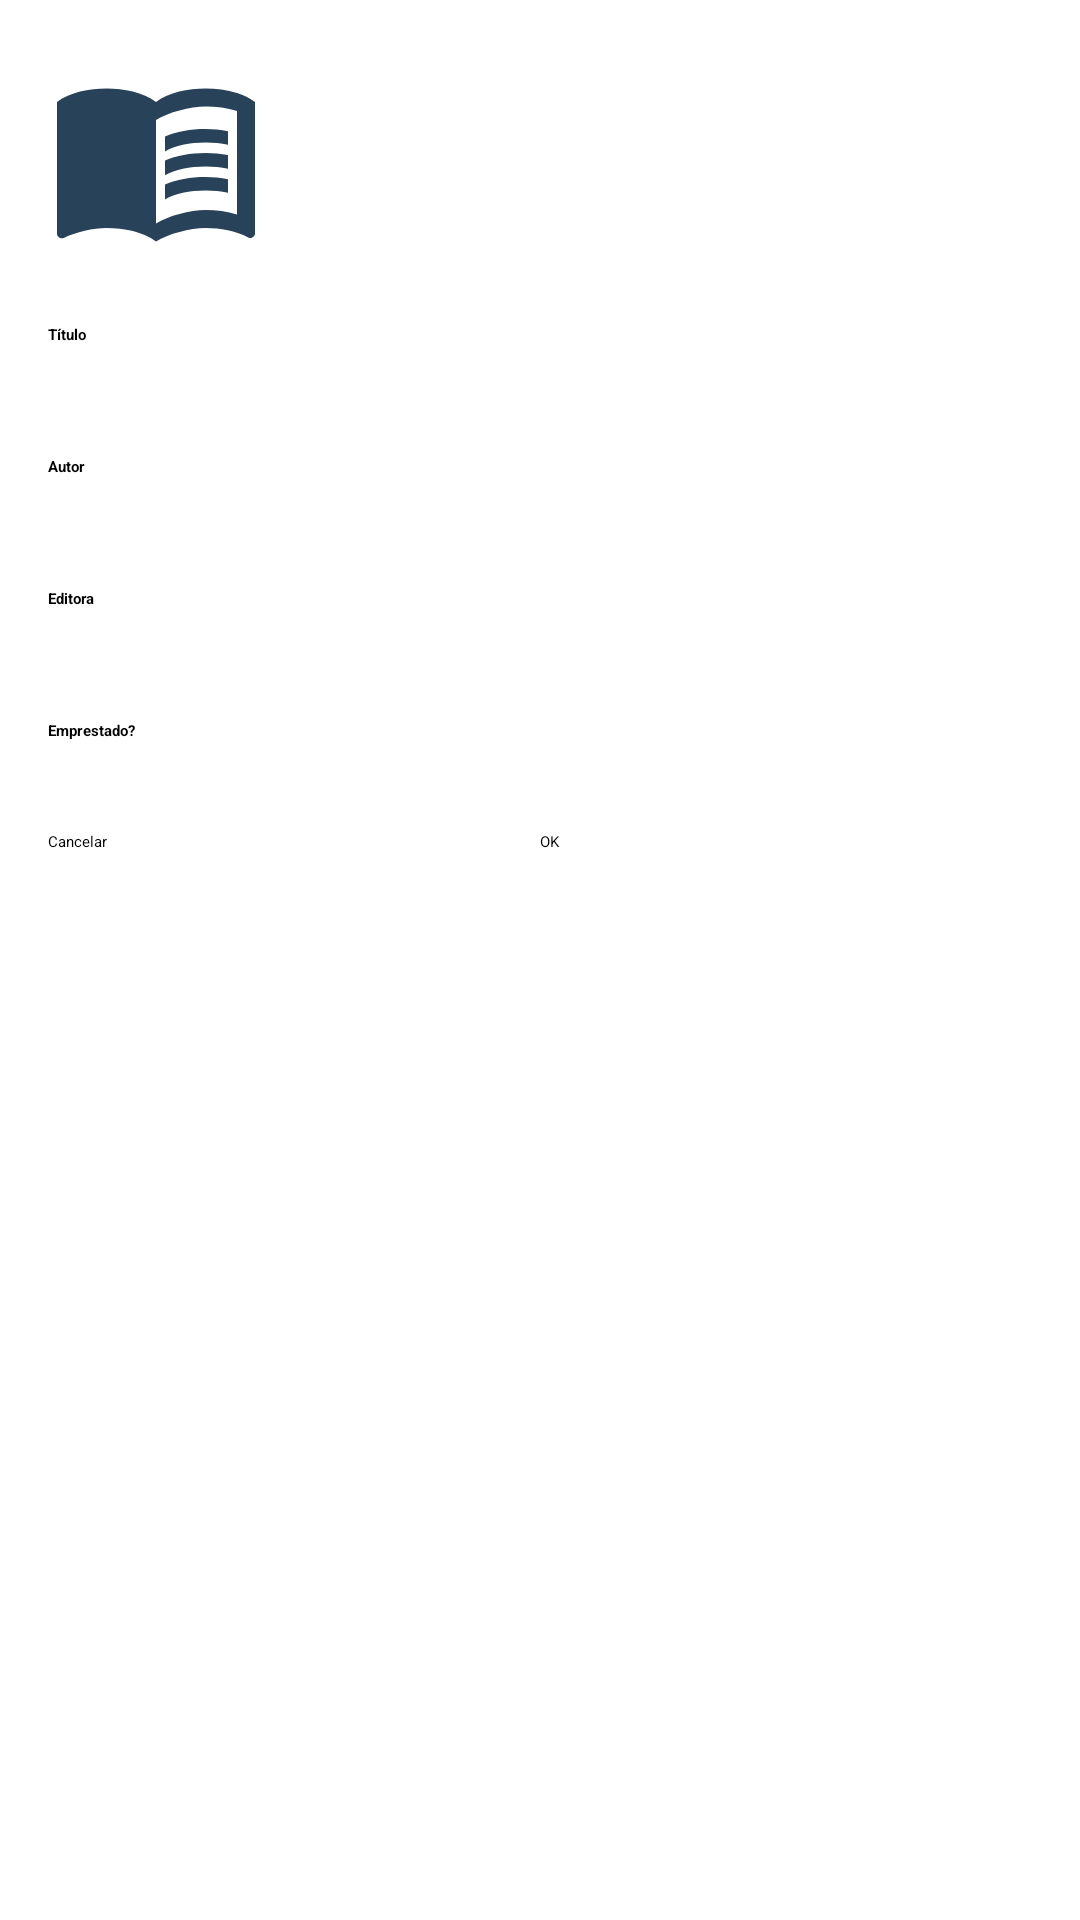

Icon bounding boxes for this 1080×1920 phone screenshot, format {"left": x1, "top": y1, "right": x2, "bottom": y2}:
book: {"left": 57, "top": 88, "right": 255, "bottom": 242}
